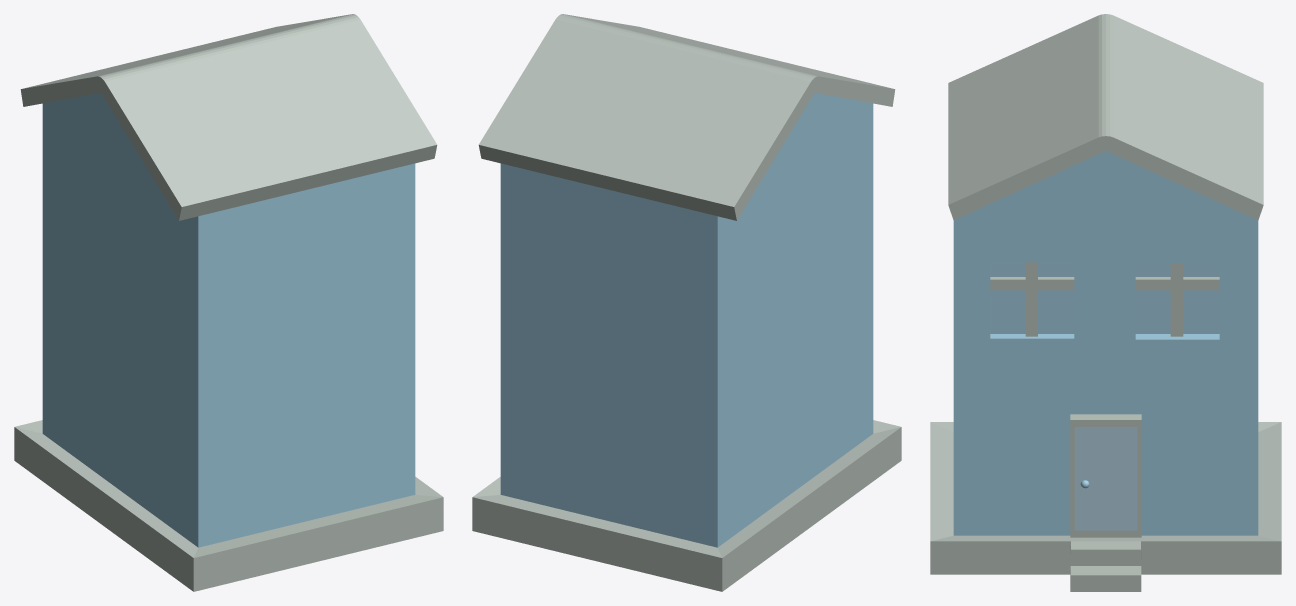
The model's file is blue gumball house.fbx.
3 renders of one model, left to right at view 1: azimuth 30°, elevation 25°; view 2: azimuth 150°, elevation 25°; view 3: azimuth 270°, elevation 25°, orthographic. The views are drawn at different scales.
Parts seen in each view (by area): view 1: HouseBase, Roof, HouseBaseFloor; view 2: HouseBase, Roof, HouseBaseFloor; view 3: HouseBase, Roof, HouseBaseFloor, doorparts, windows, window2, door, window2parts, windowsparts.
Part boxes in pixels (x1,y1,x2,y2): HouseBase: (42,93,415,547); Roof: (20,14,437,220); HouseBaseFloor: (14,420,443,591); HouseBase: (500,93,873,547); Roof: (478,14,895,220); HouseBaseFloor: (472,420,901,591); HouseBase: (953,151,1258,535); Roof: (948,14,1263,220); HouseBaseFloor: (930,422,1281,591); doorparts: (1074,427,1137,530); windows: (990,262,1074,333); window2: (1135,263,1219,333); door: (1070,414,1141,537); window2parts: (1135,263,1219,336); windowsparts: (990,262,1074,336).
Size of the model in its own units: 779 by 1156 by 836.
